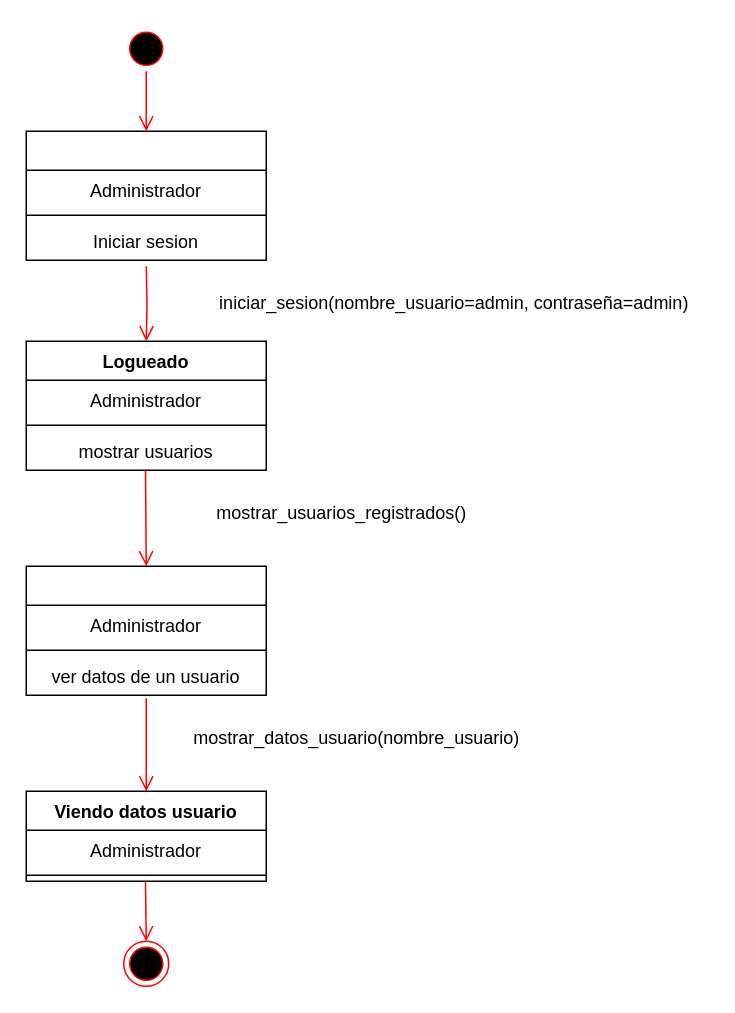
The diagram is 735 pixels wide and 1013 high, and some of its shapes have lost their labels. The box of each missing label's shape, as (x1, y1, x2, y2) in pixels:
Idle: (25, 130, 266, 260)
Viendo usuarios: (25, 565, 266, 695)
